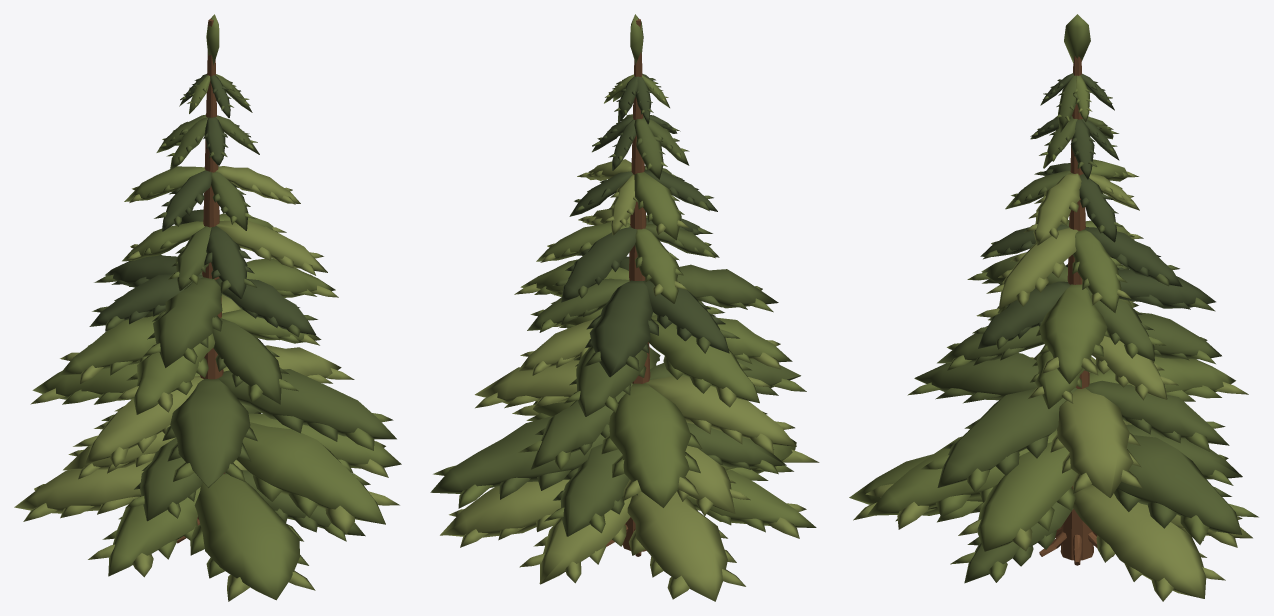
File: pine-3.glb
The picture shows the model from 3 angles, left to right: view 1: azimuth 30°, elevation 25°; view 2: azimuth 150°, elevation 25°; view 3: azimuth 270°, elevation 25°; orthographic projection. The views are drawn at different scales.
Parts seen in each view (by area): view 1: pine-3; view 2: pine-3; view 3: pine-3.
Boxes of the visible parts, bbox=[...] form: pine-3: bbox=[14, 14, 401, 601]; pine-3: bbox=[430, 14, 819, 601]; pine-3: bbox=[849, 14, 1258, 601].
Size of the model in its own units: 5.05 by 8.51 by 5.86.
